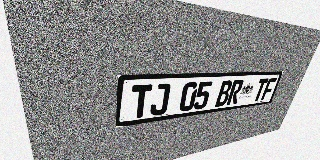0: (178, 82, 199, 112)
5: (193, 81, 213, 110)
B: (215, 80, 233, 107)
F: (260, 78, 277, 100)
J: (149, 83, 171, 116)
R: (226, 80, 244, 105)
T: (130, 84, 152, 119), (252, 78, 269, 102)
